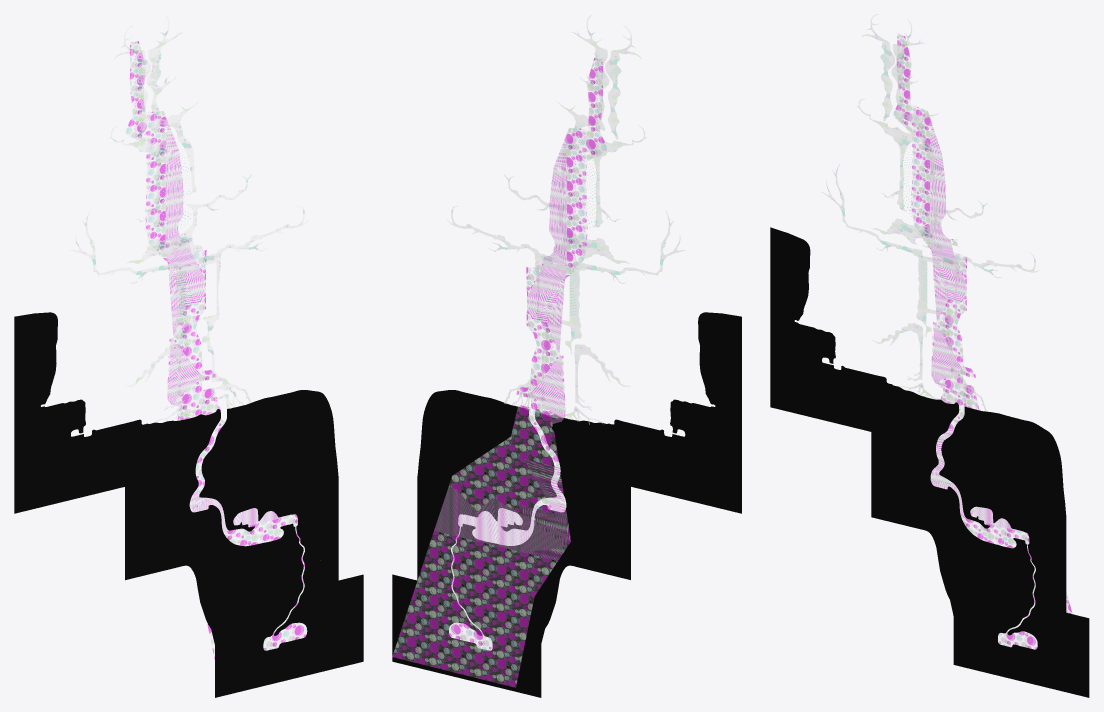
The model's file is bigtree01.glb.
The picture shows the model from 3 angles, left to right: view 1: azimuth 30°, elevation 25°; view 2: azimuth 150°, elevation 25°; view 3: azimuth 330°, elevation 25°; orthographic projection. The views are drawn at different scales.
Visible parts, largest first — view 1: bigtree01; view 2: bigtree01; view 3: bigtree01.
Part boxes in pixels (bbox=[...]): bigtree01: bbox=[14, 15, 363, 697]; bigtree01: bbox=[392, 15, 741, 697]; bigtree01: bbox=[770, 14, 1089, 697].
Bounding box in the file's own units: 3106 × 5916 × 251.
3 materials, 3 textured.
